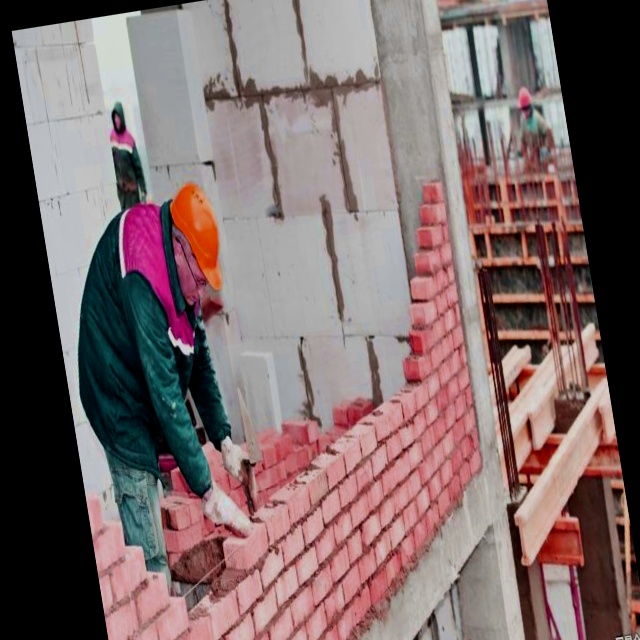Con_Casco: (163, 182, 228, 303)
